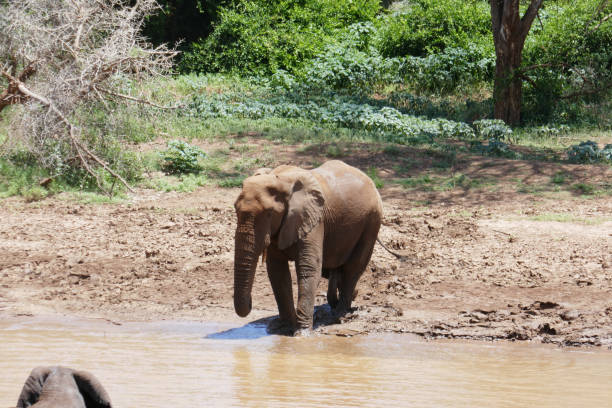africanelephant: (222, 171, 312, 274)
